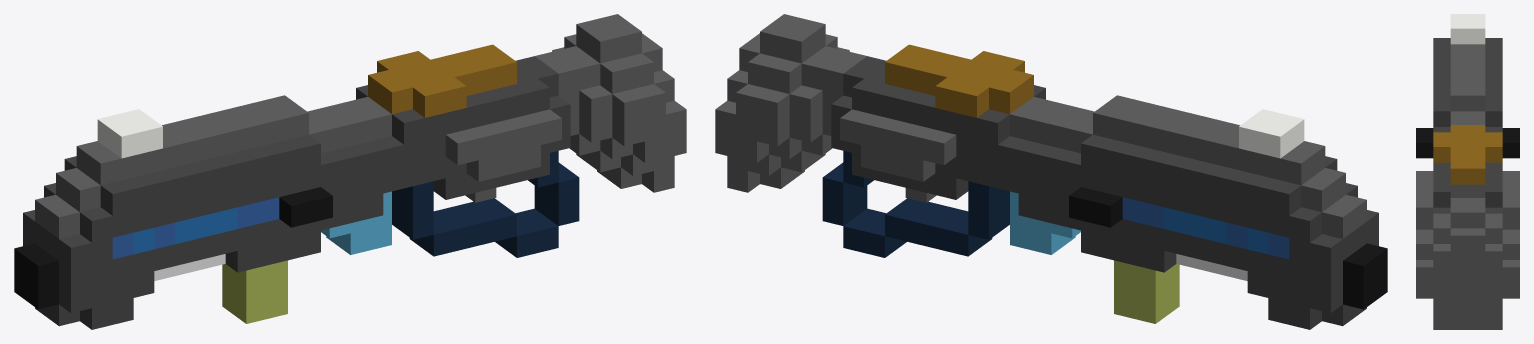
The model's file is all-purpose_mecha-5.obj.
The picture shows the model from 3 angles, left to right: view 1: azimuth 30°, elevation 25°; view 2: azimuth 150°, elevation 25°; view 3: azimuth 270°, elevation 25°; orthographic projection. The views are drawn at different scales.
Parts seen in each view (by area): view 1: all-purpose_mecha-5; view 2: all-purpose_mecha-5; view 3: all-purpose_mecha-5.
Part boxes in pixels (x1,y1,x2,y2): all-purpose_mecha-5: (14,14,686,329); all-purpose_mecha-5: (715,14,1387,329); all-purpose_mecha-5: (1416,14,1519,329).
Size of the model in its own units: 30 by 10 by 6.
Materials: 1 (1 with a texture image).
